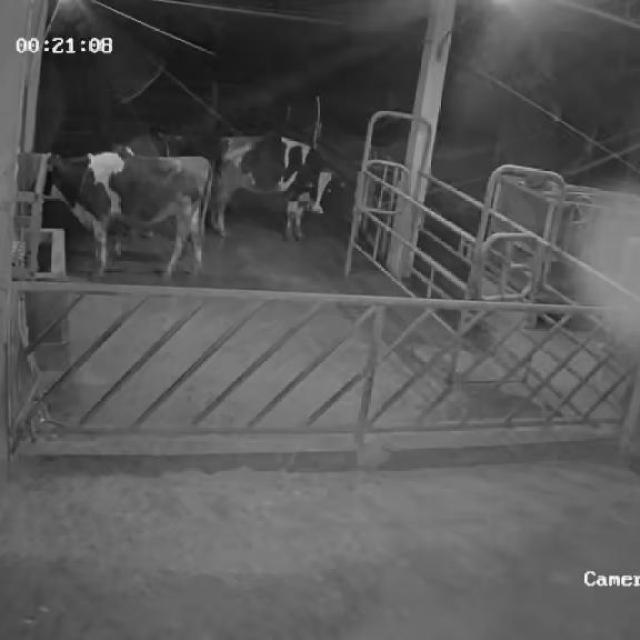standing: (29, 150, 209, 286), (204, 128, 346, 243)
